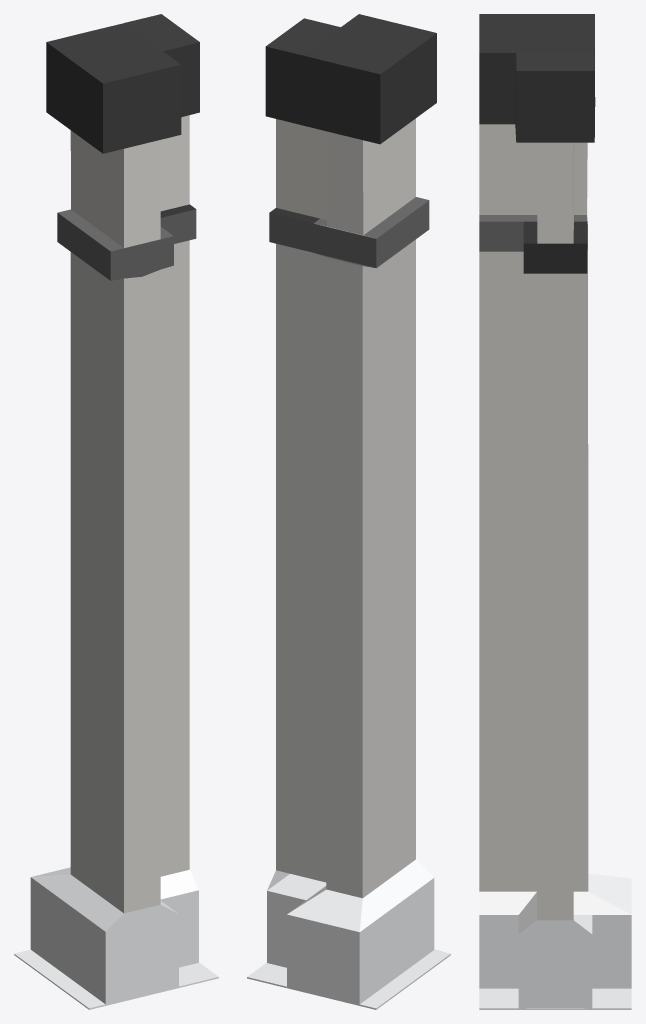
Rendered from LatestCorner.fbx.
The picture shows the model from 3 angles, left to right: view 1: azimuth 30°, elevation 25°; view 2: azimuth 150°, elevation 25°; view 3: azimuth 270°, elevation 25°; orthographic projection. The views are drawn at different scales.
Parts seen in each view (by area): view 1: Wall1.001; view 2: Wall1.001; view 3: Wall1.001.
Part boxes in pixels (x1,y1,x2,y2): Wall1.001: (14, 14, 218, 1009); Wall1.001: (247, 14, 450, 1009); Wall1.001: (479, 14, 631, 1009).
Size of the model in its own units: 1.32 by 1.33 by 9.
